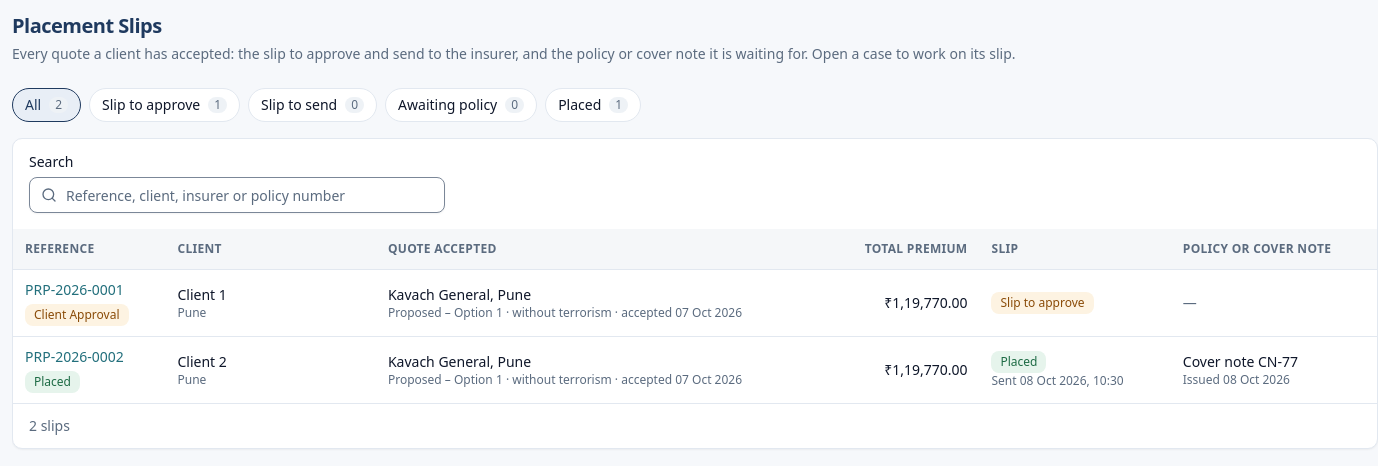
Test case: cross-case lists › Placement Slips: every accepted quote, from slip to policy
Expected: the text "Cover note CN-77" is shown, [1183,352,1298,370]
Expected: the text "₹1,19,770.00" is shown 2 times, [828,270,980,336]; [828,336,980,402]
Type "CN-77" into the search field labelled "Search".
click(237, 195); type("CN-77")  # box [29,177,445,213]
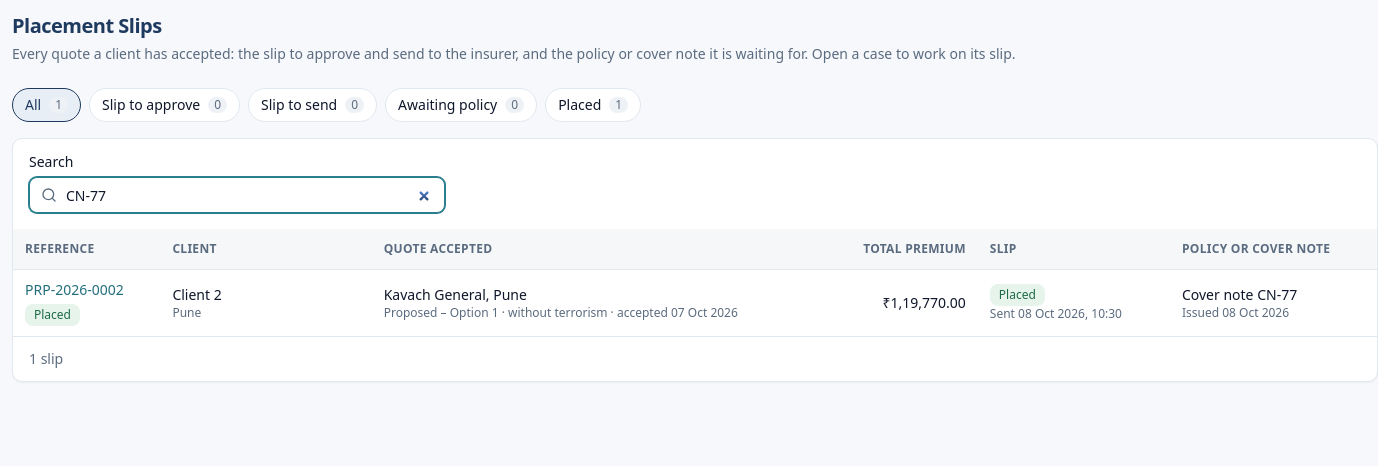
Expected: the button with aria-label "Placed (1)" is shown, [545,88,641,122]
Expected: the number of links is 1, [25,280,124,298]
